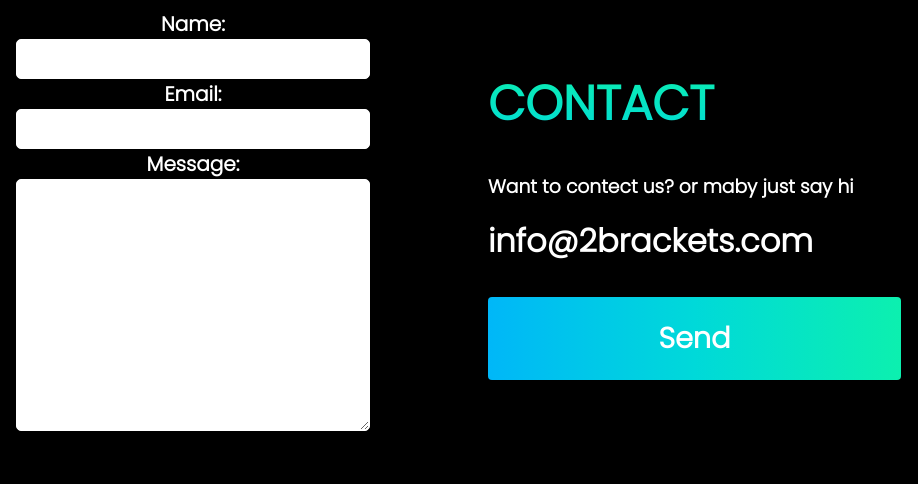
renders status Message with no email input
Type "Andy Johnsson" into the field with test id "input-name" at (193, 59), box [16,39,370,79]
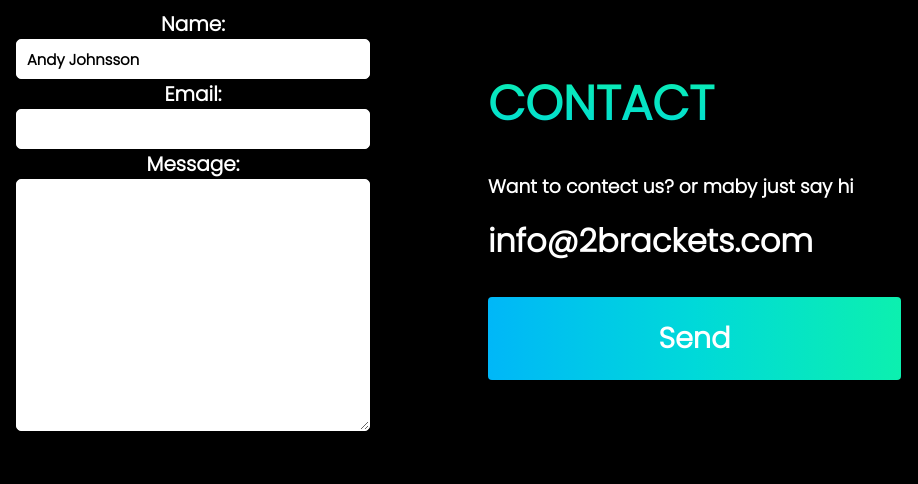
Type "Hi, how are you?" into the text box with test id "input-message" at (193, 305), box [16,179,370,431]
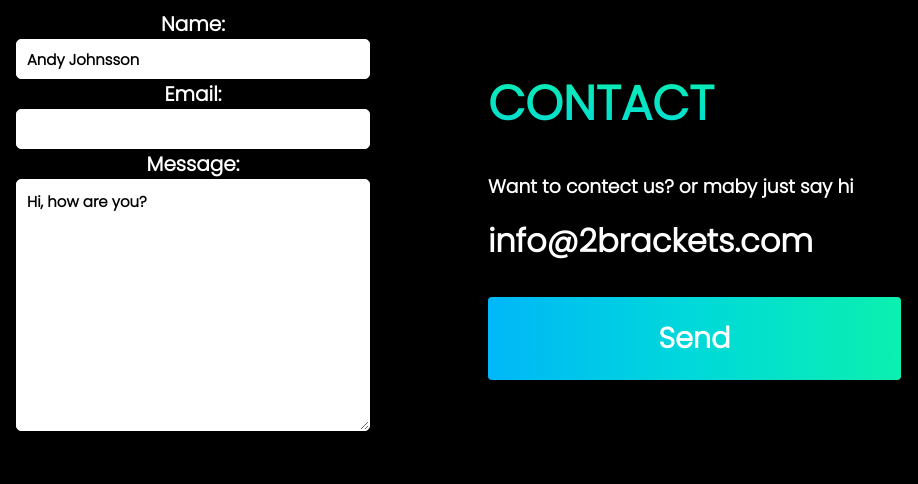
Click the button at (694, 338), box [488,296,901,380]
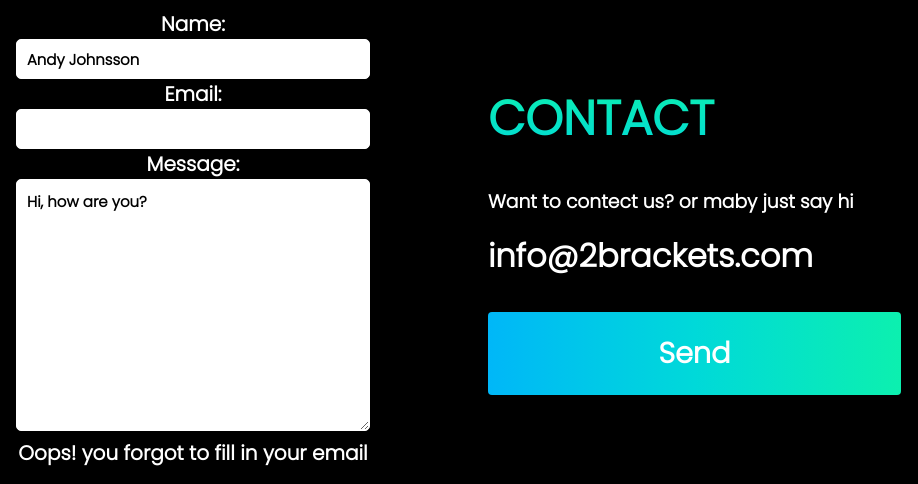
Result: the text "Oops! you forgot to fill in your email" is shown at [18,439,368,467]
